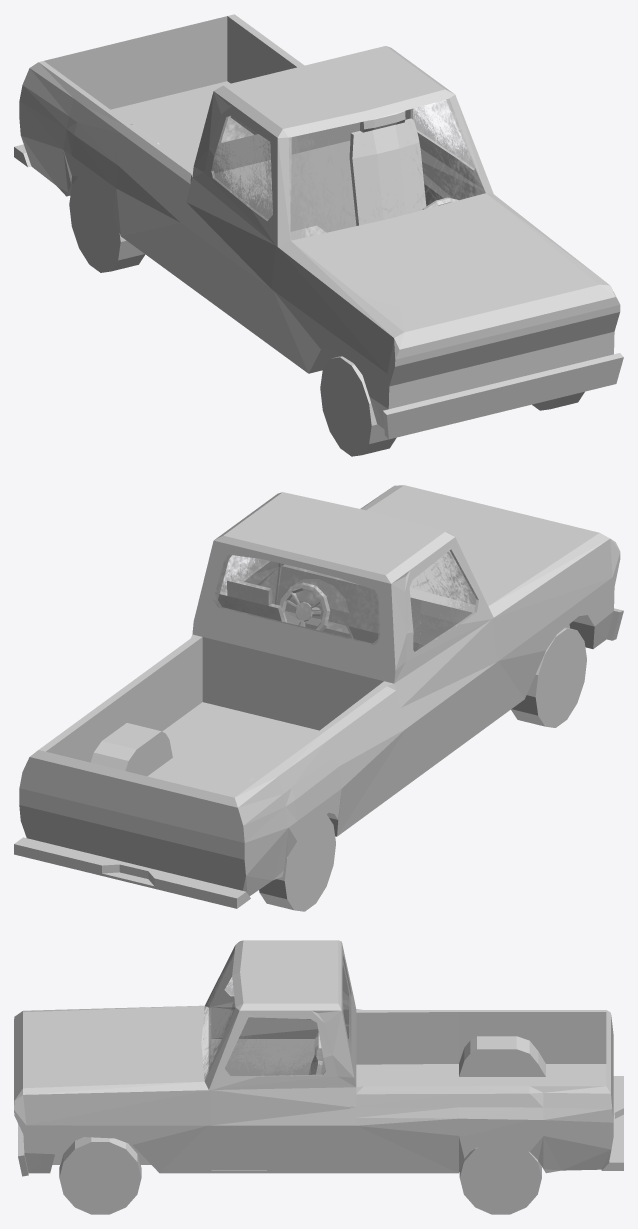
Rendered from CarFordv2.fbx.
The picture shows the model from 3 angles, top to bottom: view 1: azimuth 30°, elevation 25°; view 2: azimuth 150°, elevation 25°; view 3: azimuth 270°, elevation 25°; orthographic projection. The views are drawn at different scales.
Visible parts, largest first — view 1: CarFord, DorR, Seat, WFR, WRR, DorL; view 2: CarFord, DorR, WFR, WRR, Seat, SteringW, DorL, GloveBox; view 3: CarFord, DorL, DorR, WFL, WRL.
Boxes of the visible parts, <box> form: CarFord: <box>14,14,623,439</box>; DorR: <box>184,105,275,345</box>; Seat: <box>349,111,426,225</box>; WFR: <box>320,356,396,456</box>; WRR: <box>69,176,145,272</box>; DorL: <box>405,107,485,206</box>; CarFord: <box>14,485,623,908</box>; DorR: <box>398,538,496,779</box>; WFR: <box>511,627,586,727</box>; WRR: <box>259,814,335,911</box>; Seat: <box>218,578,285,621</box>; SteringW: <box>279,582,330,630</box>; DorL: <box>221,558,278,604</box>; GloveBox: <box>420,614,457,644</box>; CarFord: <box>14,940,623,1176</box>; DorL: <box>211,1010,350,1170</box>; DorR: <box>211,961,348,1075</box>; WFL: <box>59,1137,141,1214</box>; WRL: <box>459,1147,541,1214</box>.
Bounding box in the file's own units: 190 × 192 × 530.
